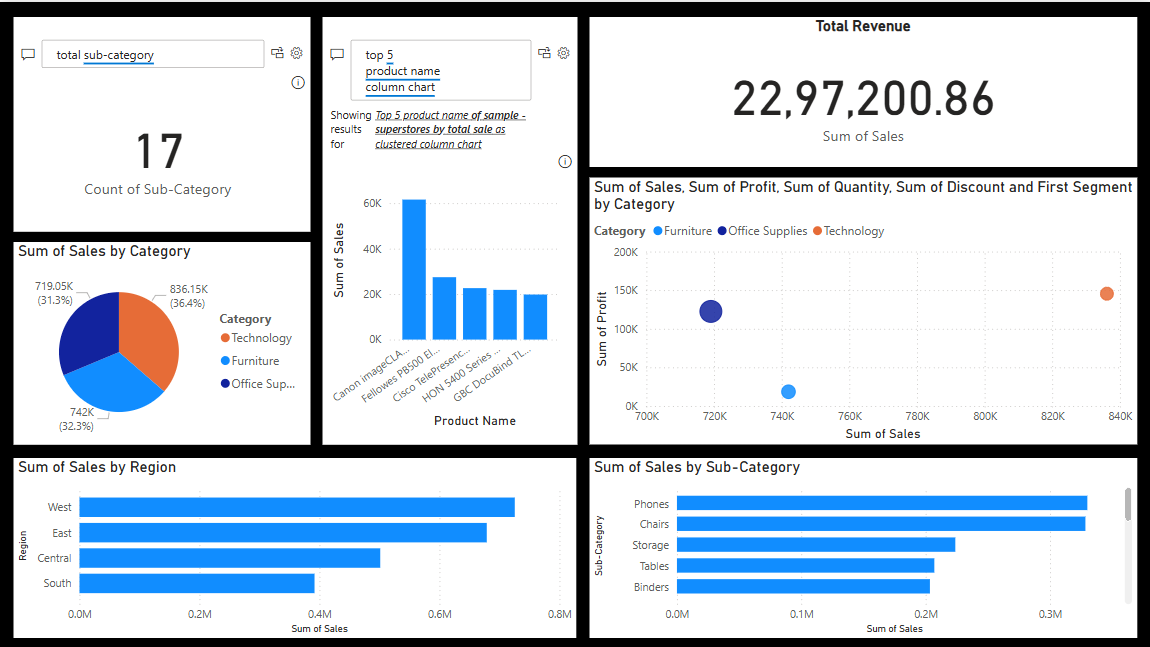

The dashboard page shown, as its layout file describes it:
{"tool":"powerbi","page":{"name":"Page 1","canvas":[1280,720],"ordinal":0},"visuals":[{"type":"card","title":"Total Revenue","fields":{"Values":["Sum(Sample - Superstore.Sales)"]},"box":[655,16.7,608.3,166.7],"z":0},{"type":"barChart","fields":{"Category":["Sample - Superstore.Region"],"Y":["Sum(Sample - Superstore.Sales)"]},"box":[15.1,506.5,625.5,200.3],"z":1},{"type":"pieChart","fields":{"Category":["Sample - Superstore.Category"],"Y":["Sum(Sample - Superstore.Sales)"]},"box":[15,266.7,330,225],"z":2},{"type":"barChart","fields":{"Category":["Sample - Superstore.Sub-Category"],"Y":["Sum(Sample - Superstore.Sales)"]},"box":[655.8,506.5,608.5,200.3],"z":3},{"type":"scatterChart","fields":{"X":["Sum(Sample - Superstore.Sales)"],"Y":["Sum(Sample - Superstore.Profit)"],"Series":["Sample - Superstore.Category"],"Size":["Sum(Sample - Superstore.Quantity)"]},"box":[655.8,194.6,608.5,296.7],"z":4},{"type":"qnaVisual","box":[15,16.7,330,238.3],"z":6},{"type":"qnaVisual","box":[358.3,16.7,283.3,475],"z":7}]}

Visuals, with their boxes in screenshot pixels (x1, y1, x2, y2), scaled from the page's 1280x720 canvas onto the 1150x647 screenshot:
"Total Revenue" card: {"x1": 588, "y1": 15, "x2": 1135, "y2": 165}
barChart - Sample - Superstore.Region x Sum(Sample - Superstore.Sales): {"x1": 14, "y1": 455, "x2": 576, "y2": 635}
pieChart - Sample - Superstore.Category x Sum(Sample - Superstore.Sales): {"x1": 13, "y1": 240, "x2": 310, "y2": 442}
barChart - Sample - Superstore.Sub-Category x Sum(Sample - Superstore.Sales): {"x1": 589, "y1": 455, "x2": 1136, "y2": 635}
scatterChart - Sum(Sample - Superstore.Sales) x Sum(Sample - Superstore.Profit): {"x1": 589, "y1": 175, "x2": 1136, "y2": 441}
qnaVisual: {"x1": 13, "y1": 15, "x2": 310, "y2": 229}
qnaVisual: {"x1": 322, "y1": 15, "x2": 576, "y2": 442}
